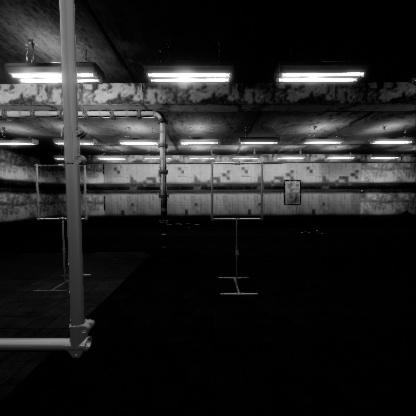gate: (211, 194, 268, 254), (36, 195, 92, 251)
